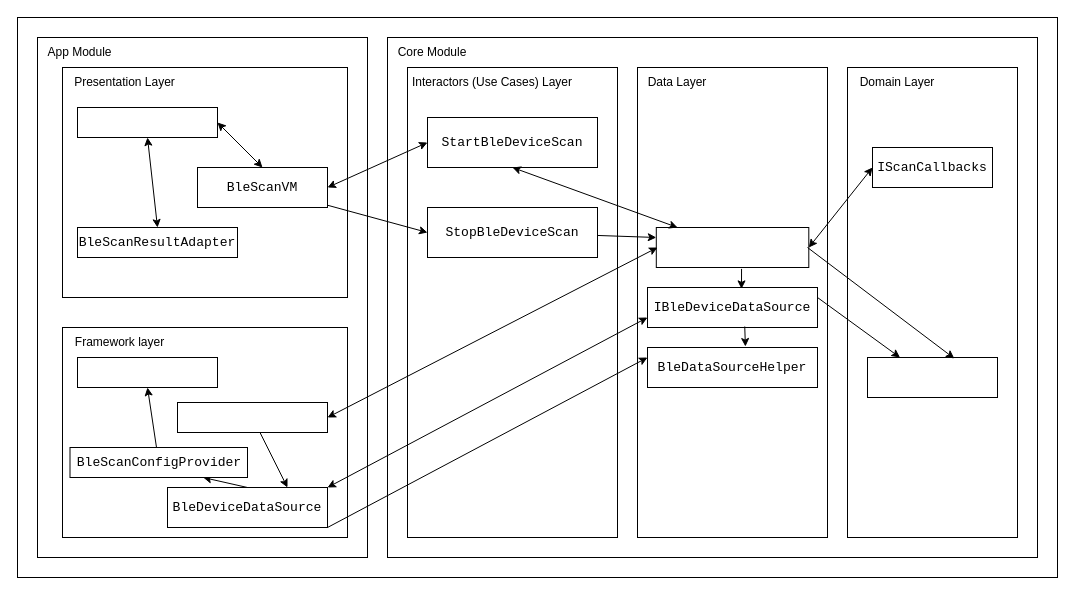
Some shapes in this 1075 by 595 pixel diagram are drawn without their labels. Each missing label, with the centre of its shape:
"BleDeviceInfo" goes at (932,377).
"BleDeviceRepository" goes at (252,417).
"BleScanActivity" goes at (147,122).
"BleScanApp" goes at (147,372).
"IDeviceRepository" goes at (732,247).
